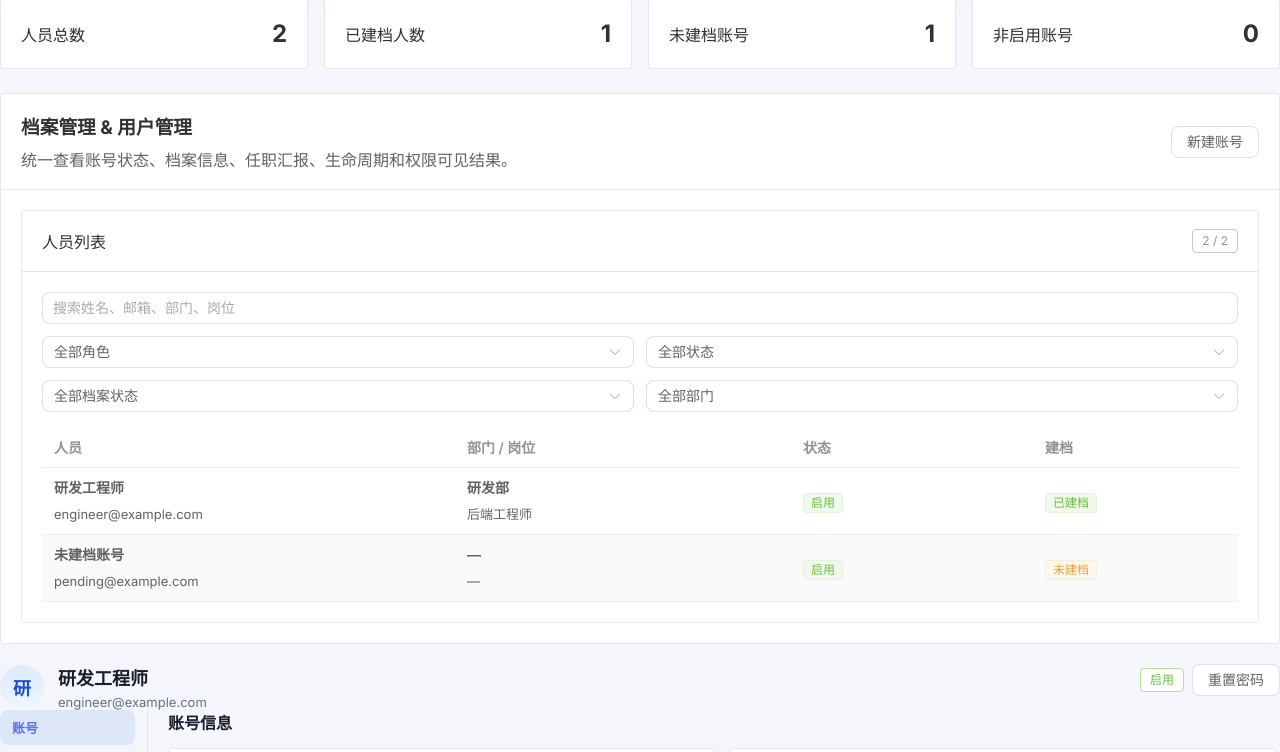
Test: PeopleManagementView › generates an invitation link from the account creation dialog
This screenshot has width=1280, height=752.
Click the button "新建账号".
click(1215, 142)  # box [1171,126,1259,158]
(page scrolled)
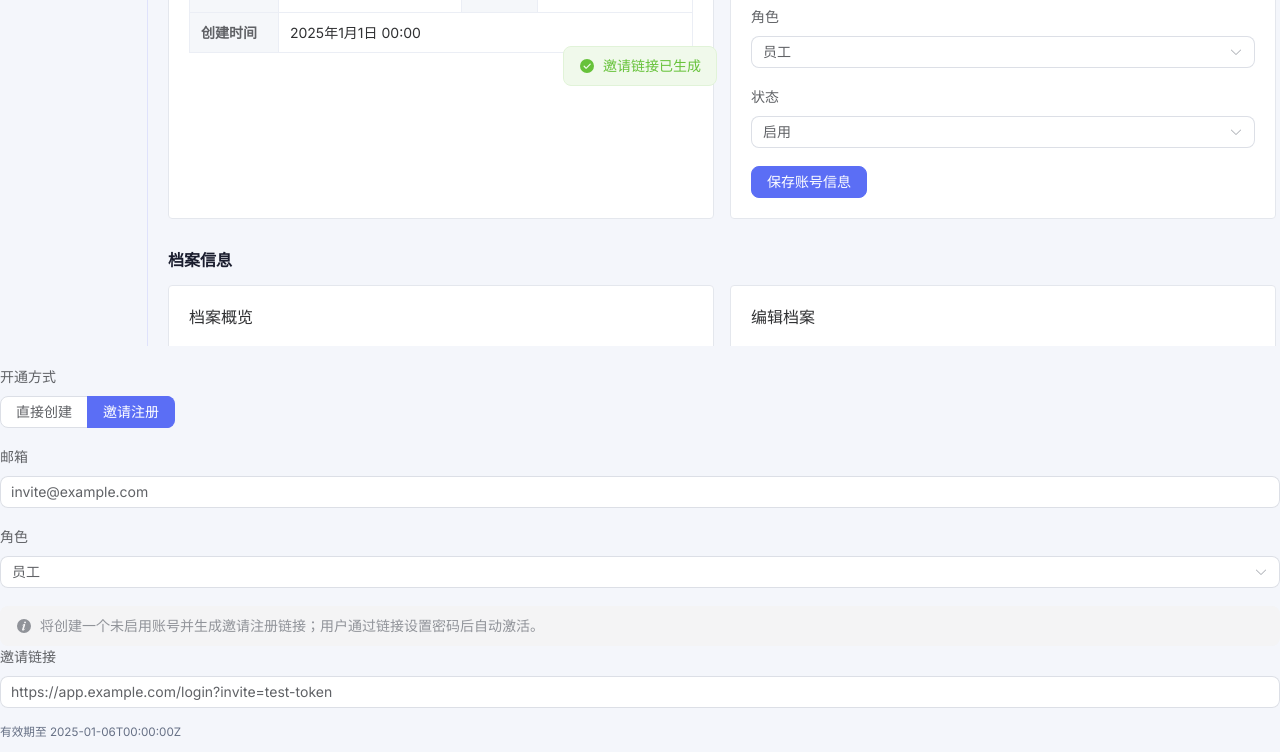
Expected: the field labelled "邀请链接" holds "https://app.example.com/login?invite=test-token", [11,677,1269,707]
